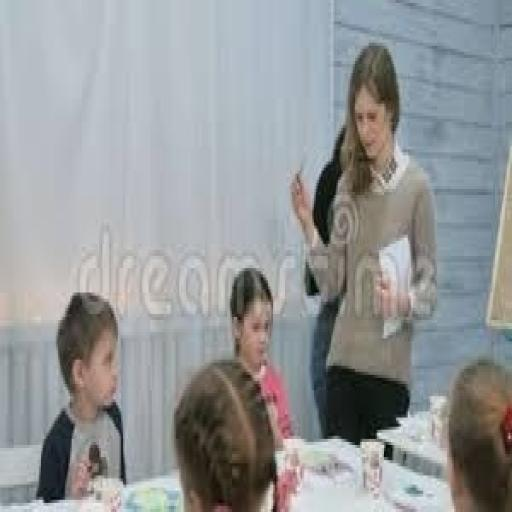sitting: (288, 40, 438, 445), (34, 286, 126, 506), (171, 353, 278, 509), (226, 265, 296, 448), (444, 353, 510, 509)
